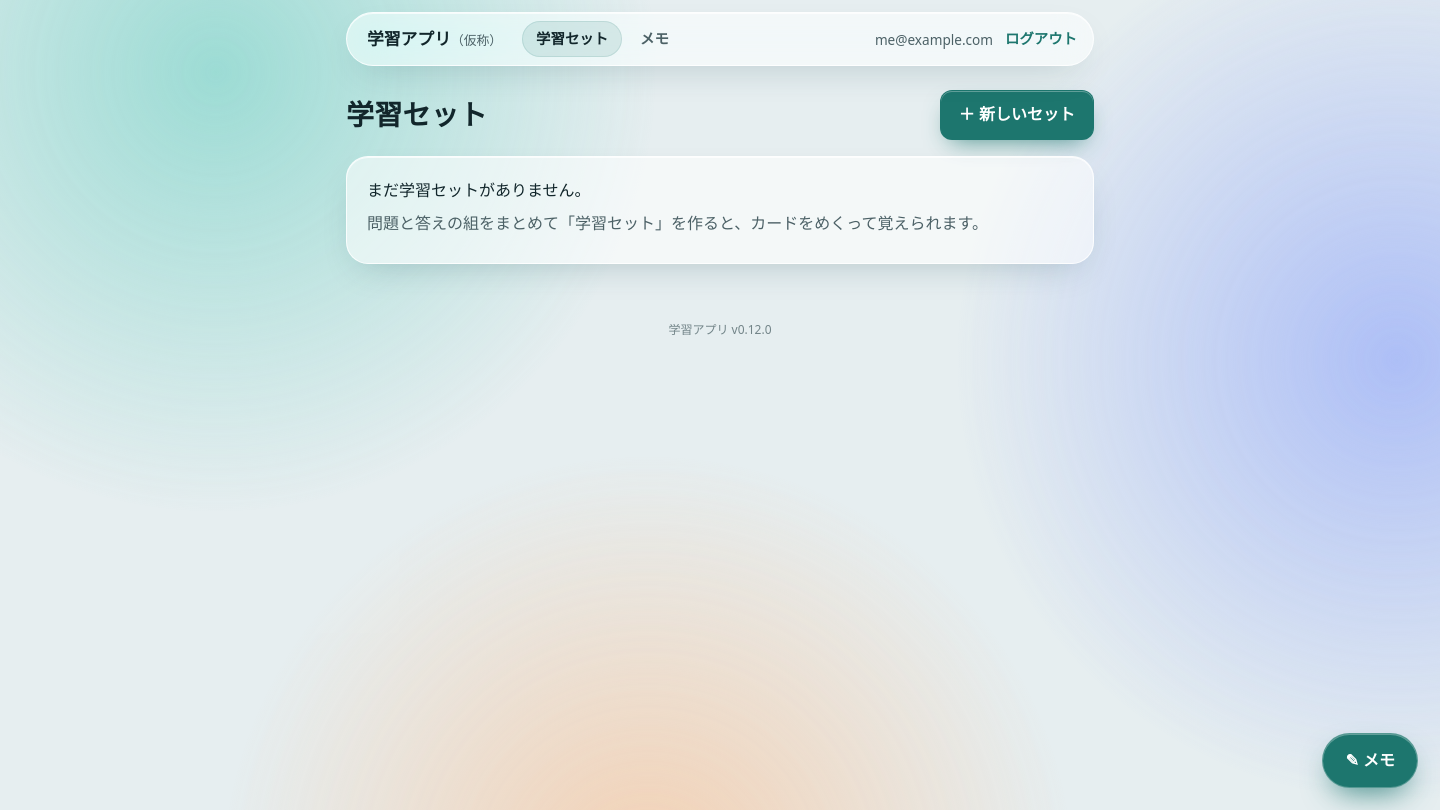
it: クイックメモ › 「大きく開く」でメモの画面へ移る。メモの画面ではボタンを出さない
Step 1. Click the button with aria-label "メモを開く" → (1370, 760), box x1=1322 y1=733 x2=1418 y2=788
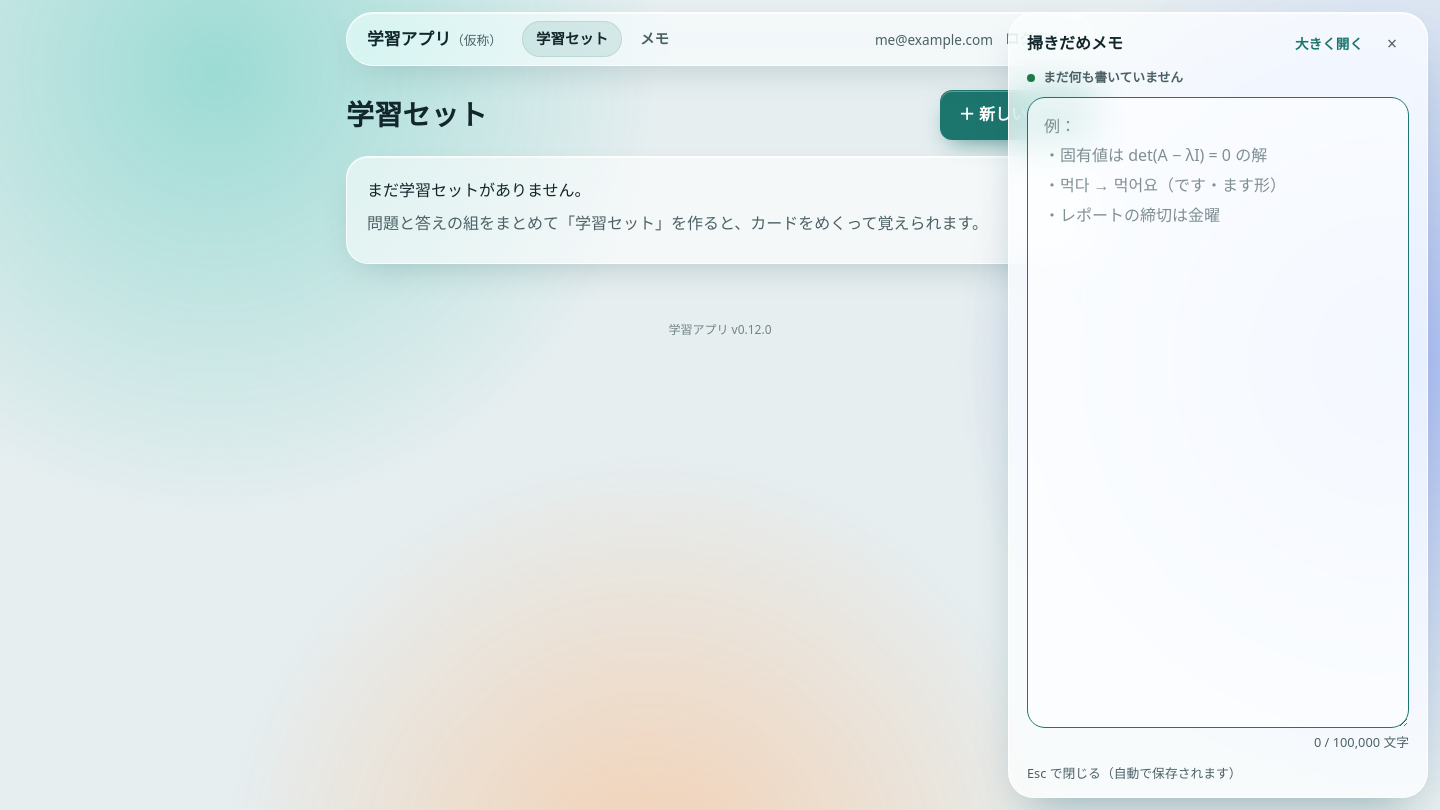
Step 2. Click the link "大きく開く" → (1329, 44), box x1=1295 y1=32 x2=1363 y2=56
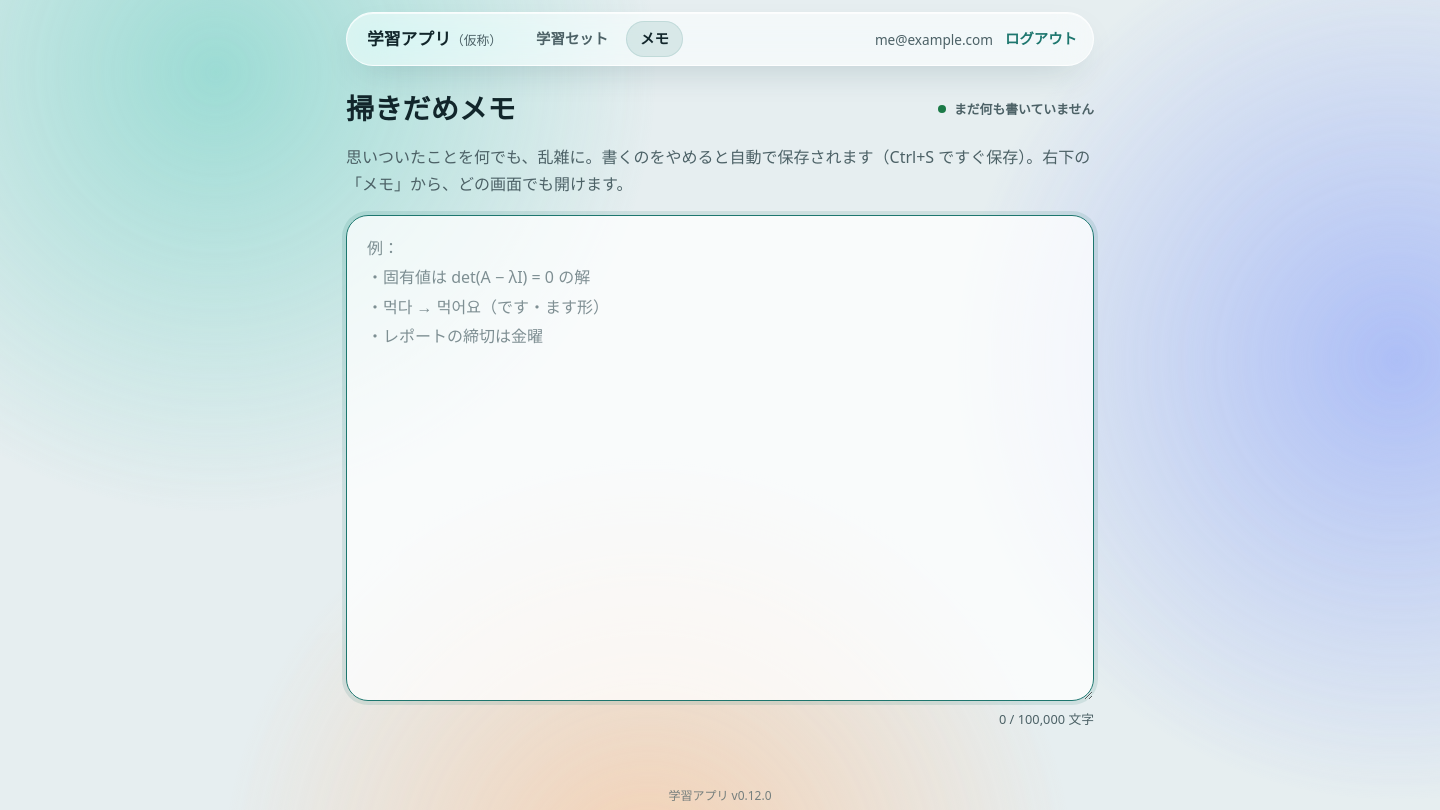
Result: the heading "掃きだめメモ" is shown at x1=346 y1=90 x2=516 y2=128
